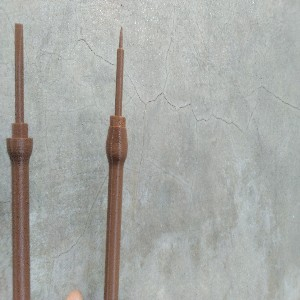obeng: (5, 21, 35, 300)
solder: (103, 25, 129, 300)
